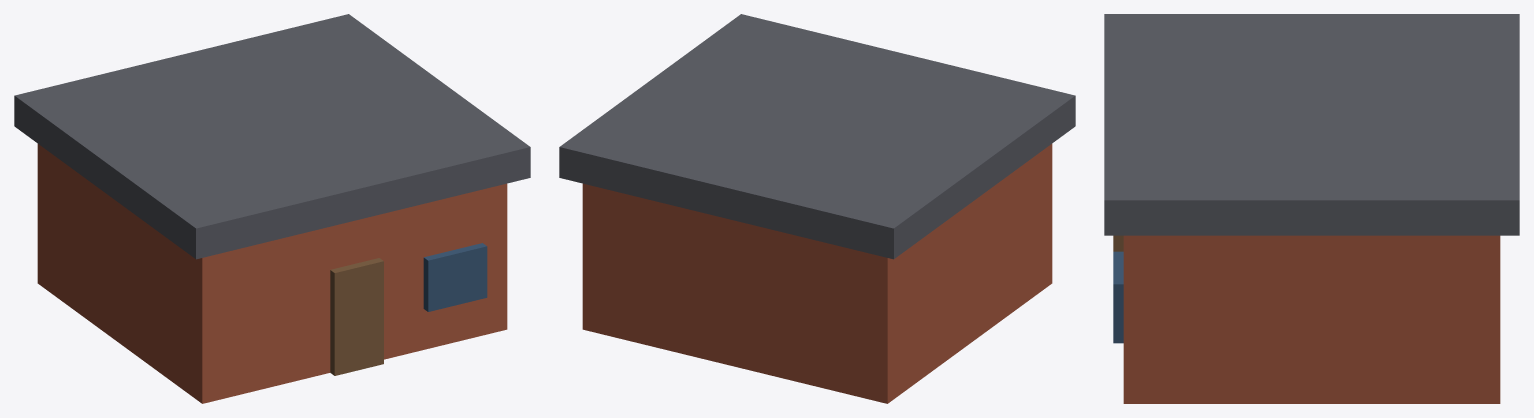
File: house_1970.glb
The picture shows the model from 3 angles, left to right: view 1: azimuth 30°, elevation 25°; view 2: azimuth 150°, elevation 25°; view 3: azimuth 270°, elevation 25°; orthographic projection. The views are drawn at different scales.
Parts seen in each view (by area): view 1: Roof, Walls, Door, Window; view 2: Roof, Walls; view 3: Roof, Walls, Window.
Boxes of the visible parts, x1=… form: Roof: x1=14, y1=14, x2=530, y2=259; Walls: x1=37, y1=144, x2=507, y2=403; Door: x1=330, y1=258, x2=383, y2=375; Window: x1=423, y1=243, x2=487, y2=311; Roof: x1=559, y1=14, x2=1075, y2=259; Walls: x1=582, y1=144, x2=1052, y2=403; Roof: x1=1104, y1=14, x2=1519, y2=235; Walls: x1=1123, y1=235, x2=1500, y2=403; Window: x1=1113, y1=251, x2=1123, y2=343.
Bounding box in the file's own units: 0.68 × 0.36 × 0.64.
